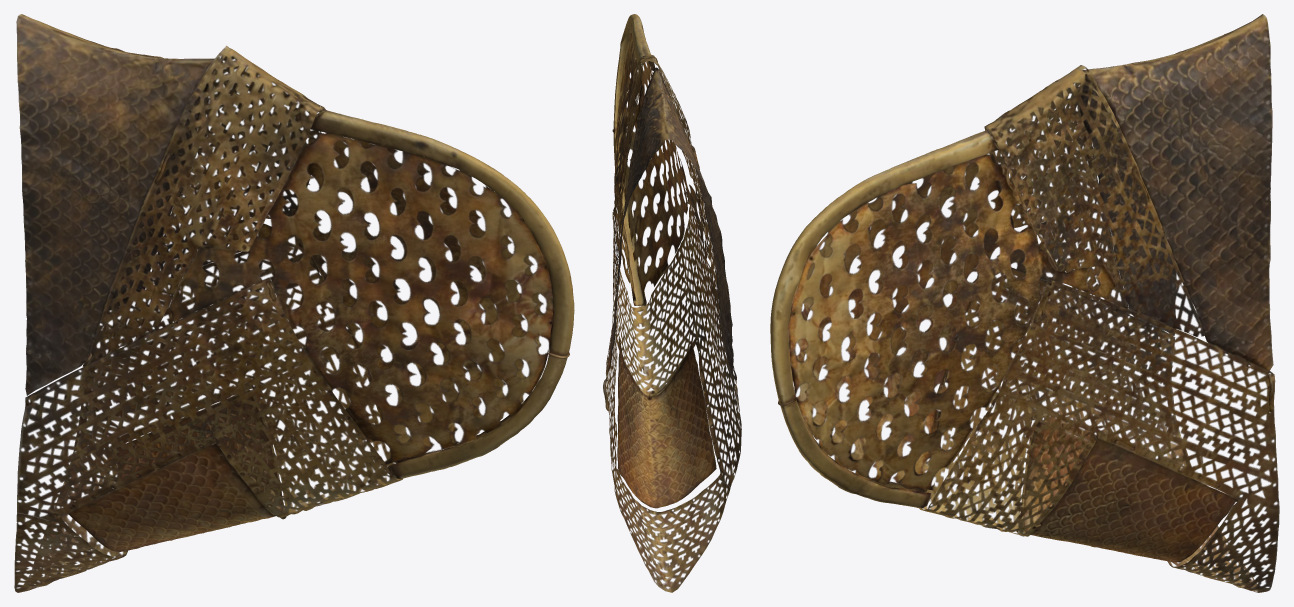
The model's file is gold-cap.glb.
3 renders of one model, left to right at view 1: azimuth 30°, elevation 25°; view 2: azimuth 150°, elevation 25°; view 3: azimuth 270°, elevation 25°, orthographic. The views are drawn at different scales.
Parts seen in each view (by area): view 1: bon009435-000-30000; view 2: bon009435-000-30000; view 3: bon009435-000-30000.
Boxes of the visible parts, bbox=[...] form: bon009435-000-30000: bbox=[14, 14, 574, 592]; bon009435-000-30000: bbox=[603, 14, 741, 592]; bon009435-000-30000: bbox=[770, 14, 1279, 592].
Size of the model in its own units: 0.8996 by 1.4 by 1.11.
1 material, 1 textured.
